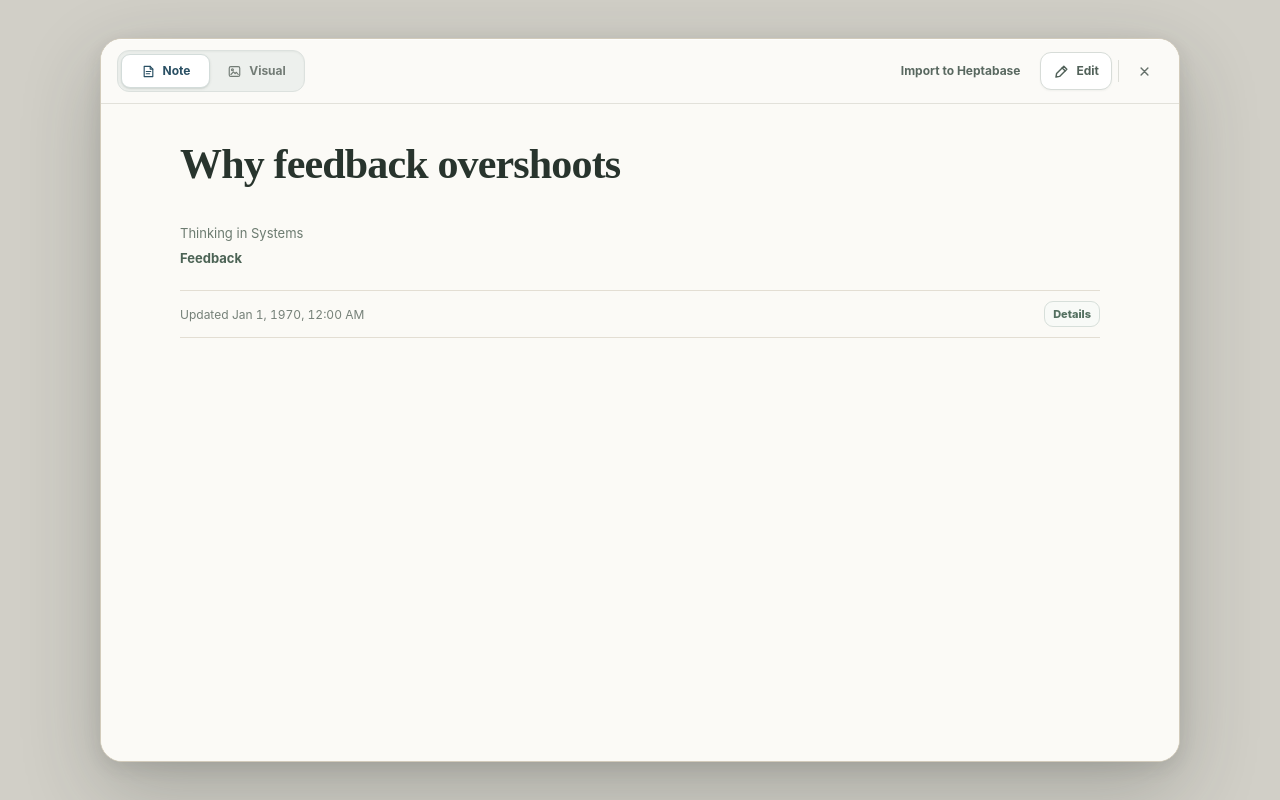
the note front shows CLI connection failures while browsing
Click the button "Import to Heptabase" at (961, 71), box [888,52,1034,90]
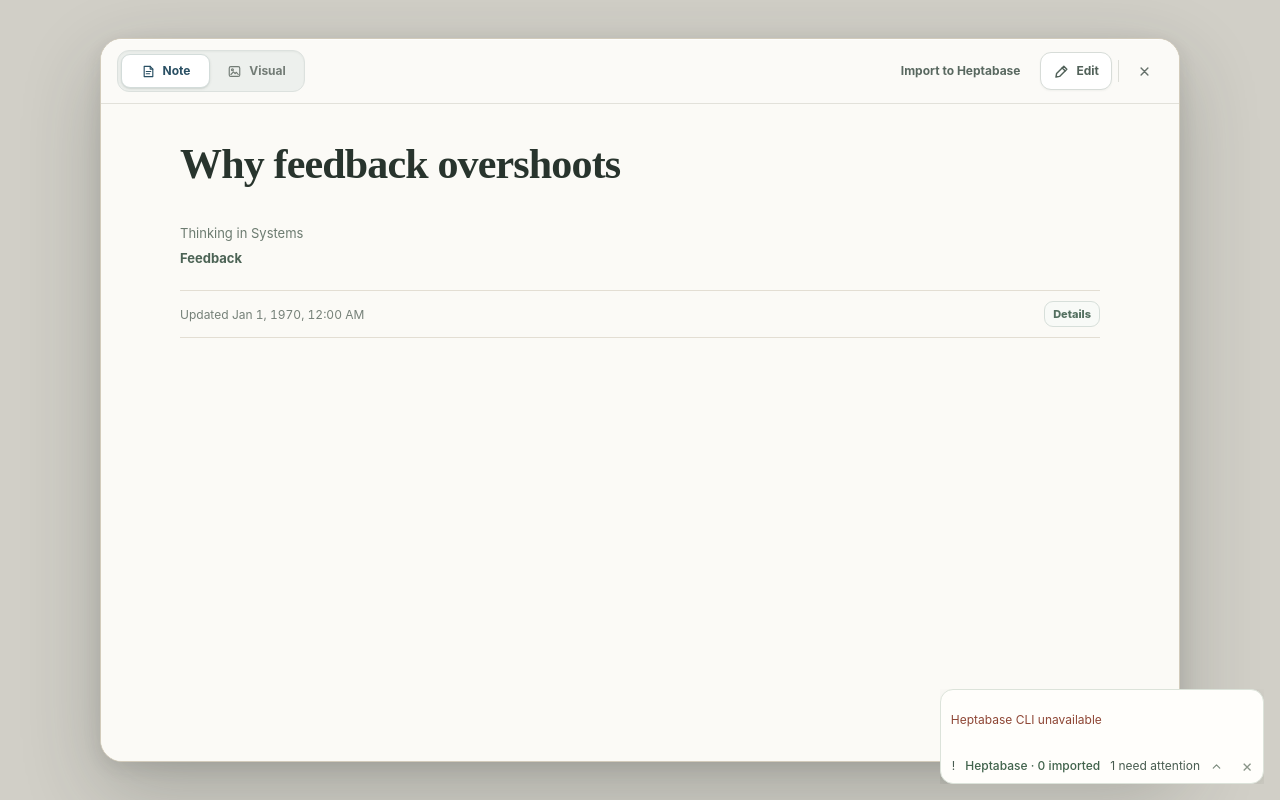
Expected: the message reads "Heptabase CLI unavailable", [951,712,1102,727]
